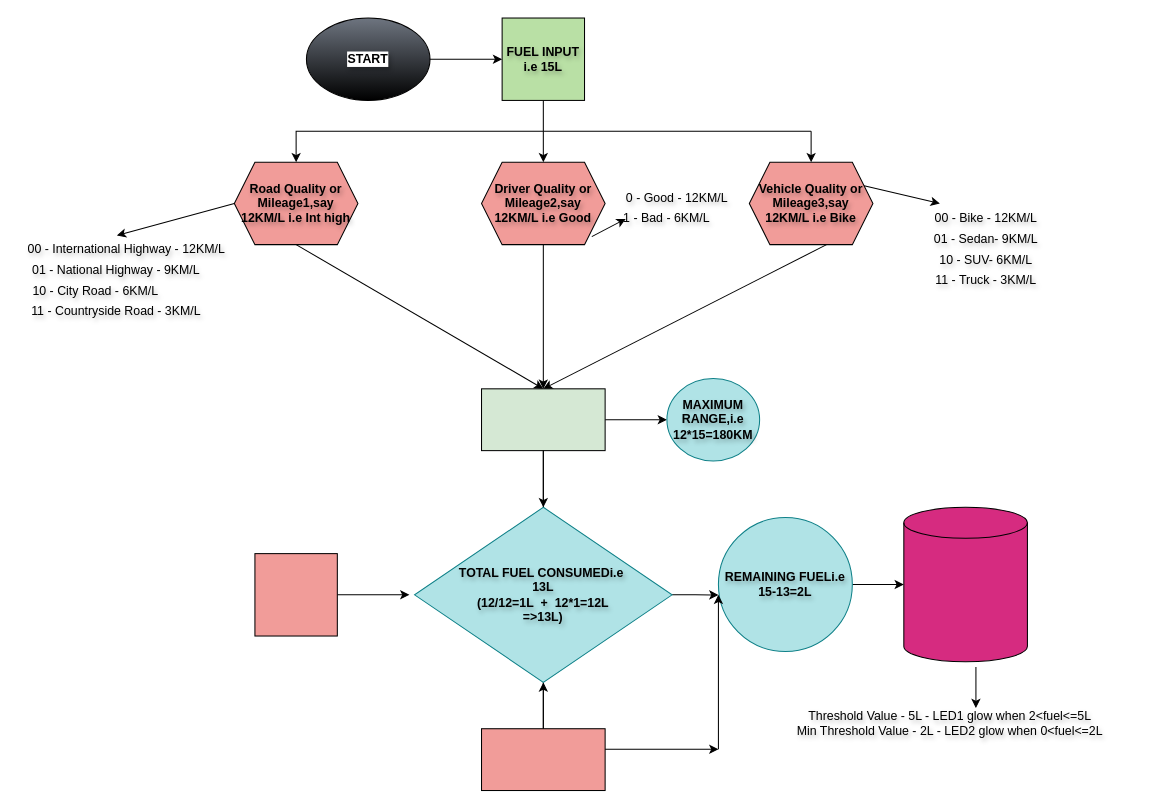
Some shapes in this 1158 by 809 pixel diagram are drawn without their labels. Here are the shapes that lost their labels. From the top down, the centre of each, then its label:
At (x=542, y=419): "Average Mileage,say Mileage i.e 12KM/L".
At (x=295, y=594): "DISTANCE INPUT,say 12KM".
At (x=965, y=584): "AS FUEL REMAINING IS <=2L(MIN THRESHOLD) SO LED 2 WILL GLOW.".
At (x=542, y=759): "FUEL FOR HEADLIGHT,say 1L/KM".
